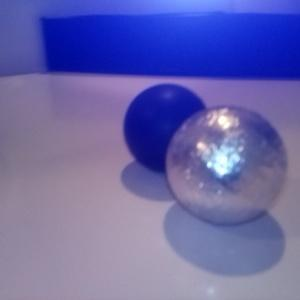alive_ball: (166, 105, 287, 227)
dead_ball: (122, 83, 209, 172)
